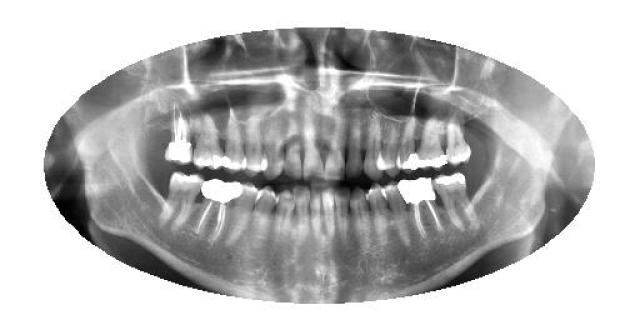Fillings: (432, 172, 478, 232), (416, 116, 446, 169), (395, 116, 423, 172), (194, 115, 222, 169), (224, 109, 248, 172)
Implant: (396, 176, 445, 240), (194, 178, 241, 244), (165, 101, 195, 165)
